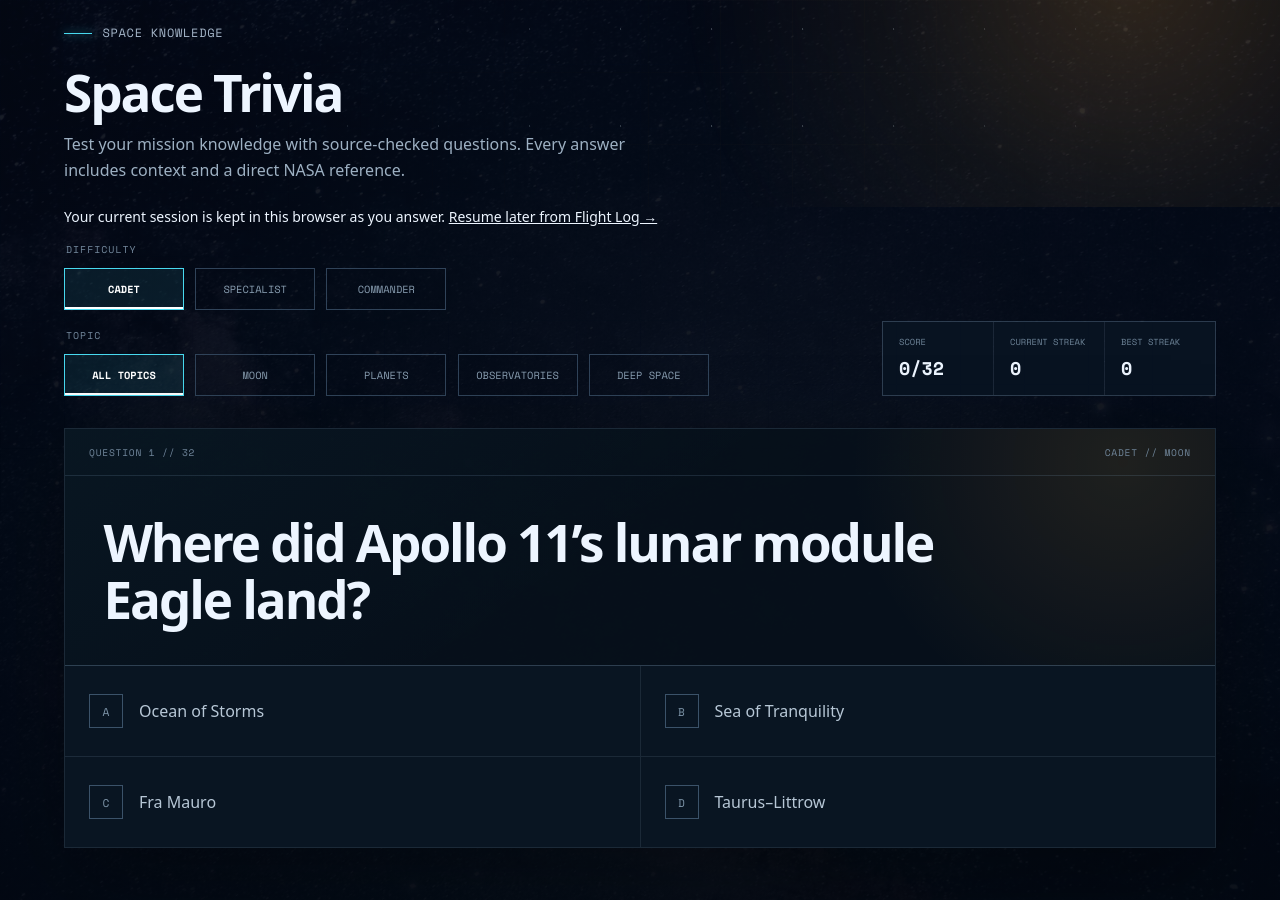
TriviaPage › scores an answer and explains it with an official source
This screenshot has width=1280, height=900.
Click the button "B Sea of Tranquility": click(682, 711) left=640, top=666, right=1215, bottom=756
(page scrolled)
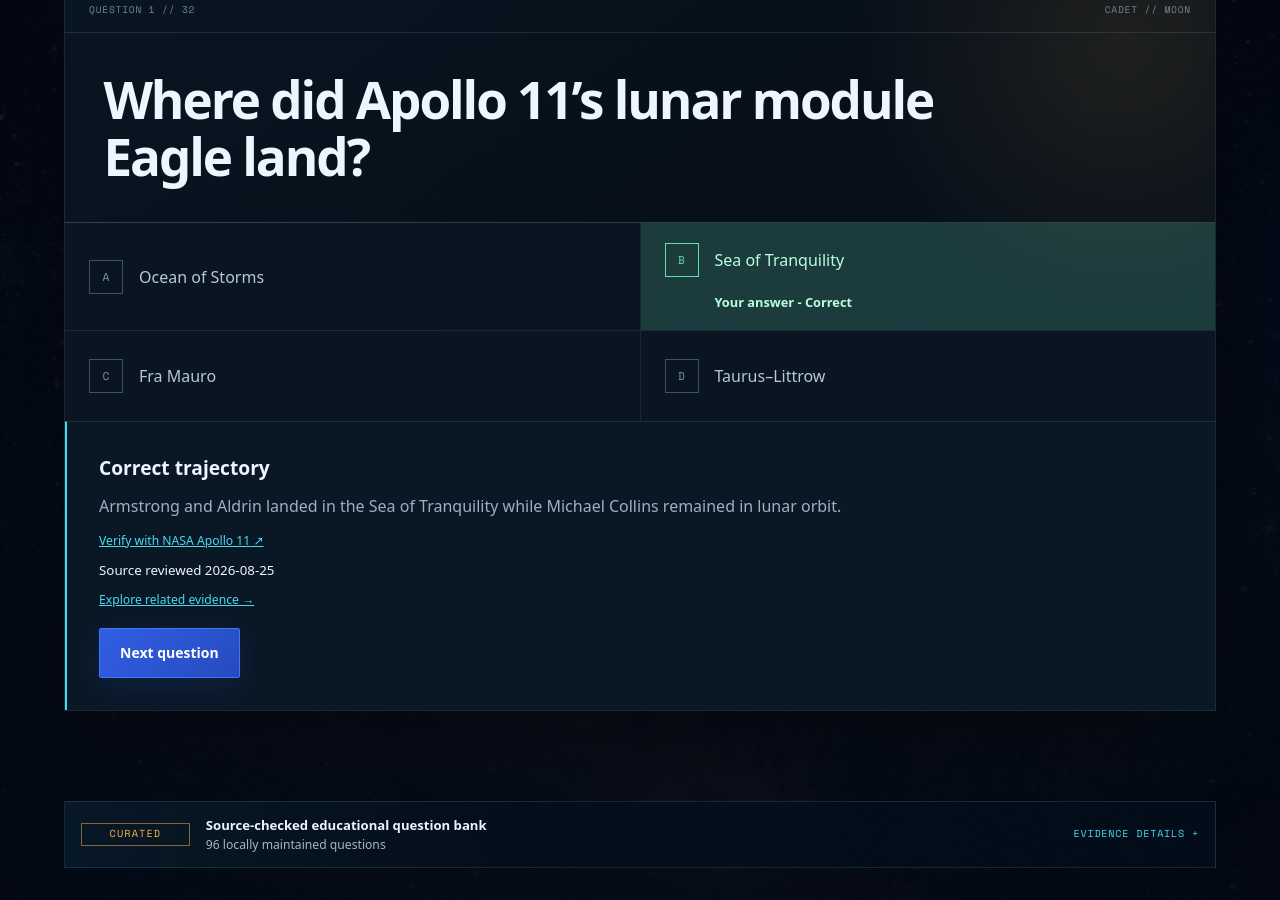
Now the text "Correct trajectory" is shown, box left=99, top=454, right=270, bottom=481
Now the text "Source reviewed 2026-08-25" is shown, box left=99, top=561, right=274, bottom=579
